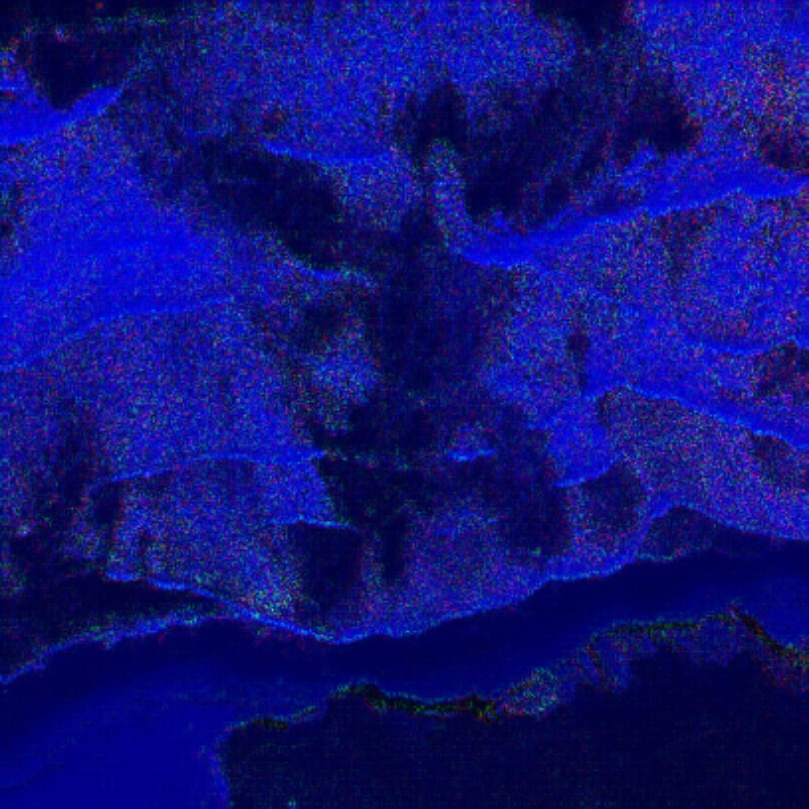rip_current: (197, 112, 570, 582)
